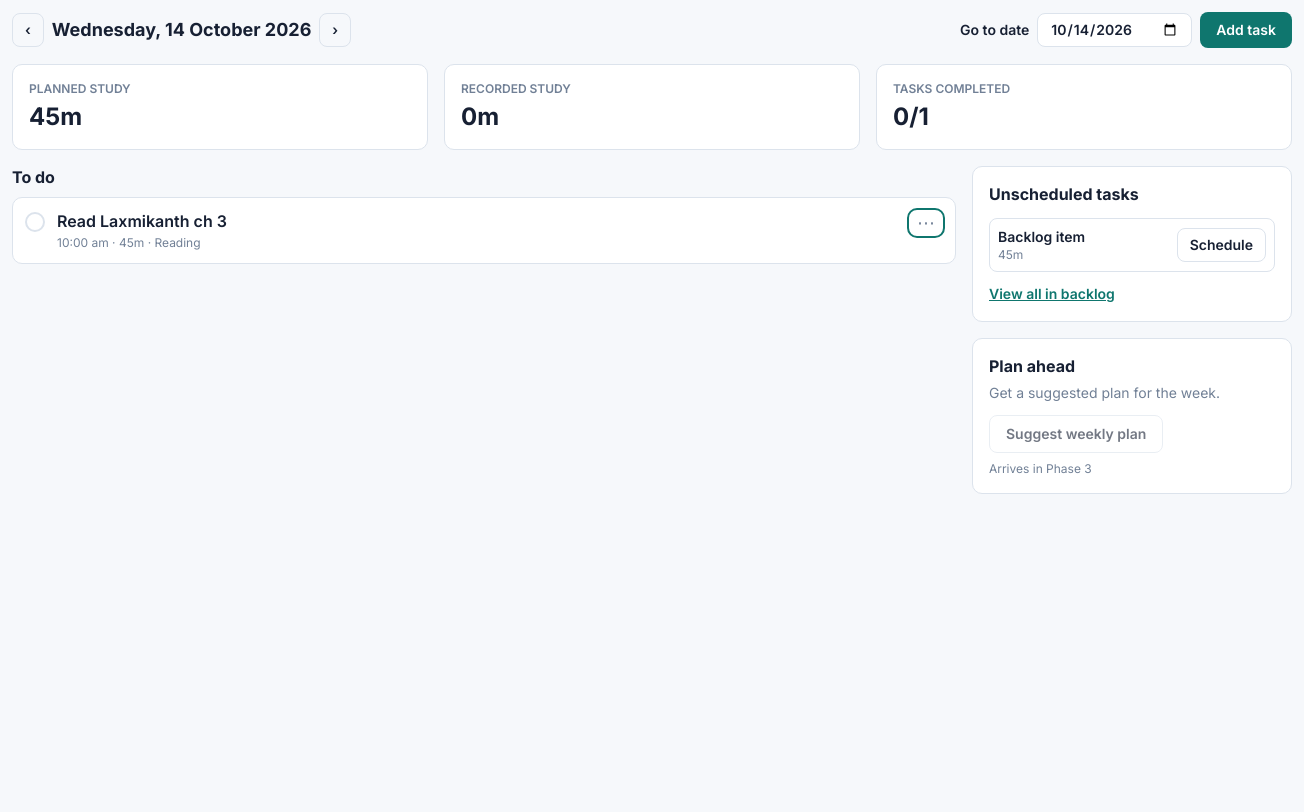
Test: TodayView › delete offers Undo that recreates via POST
Click the button named "Actions for Read": (926, 223) [909, 210, 943, 236]
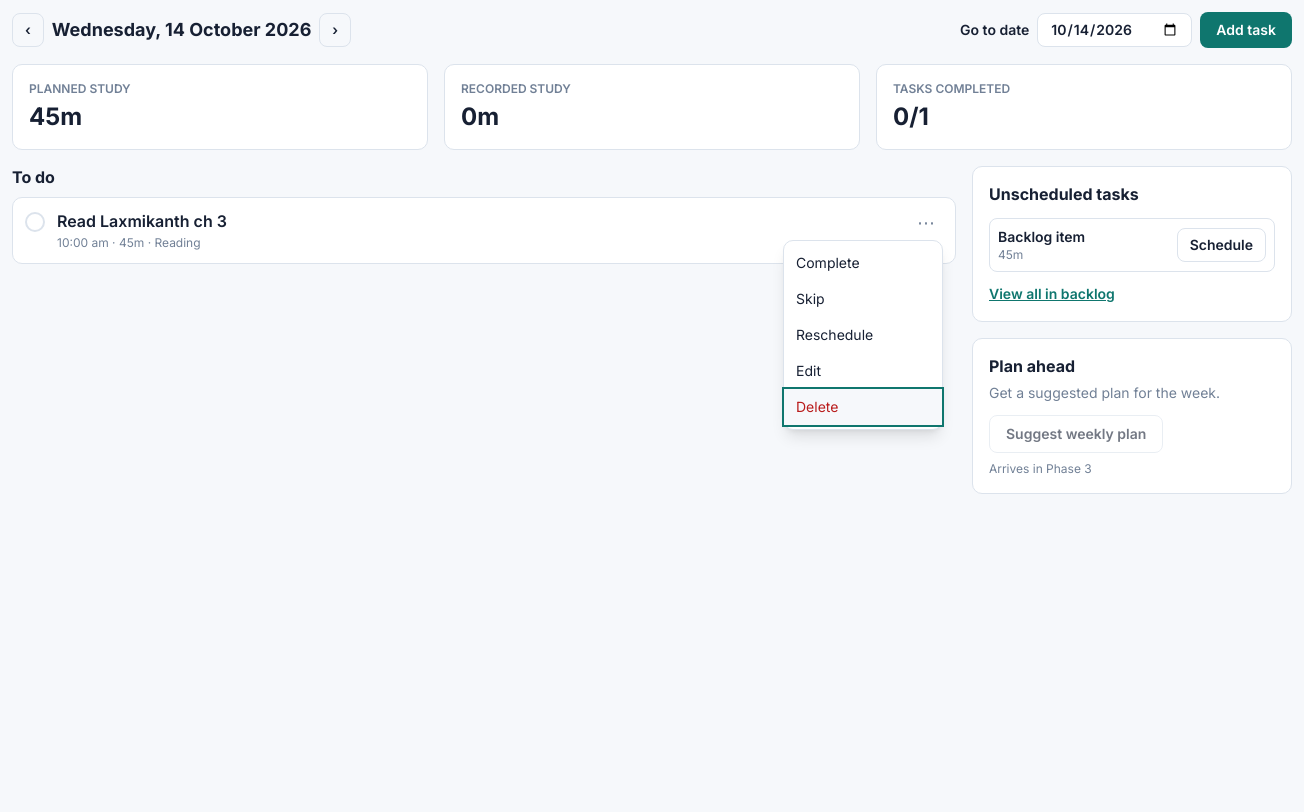
Click the menu item "Delete": (863, 407) [784, 389, 942, 425]
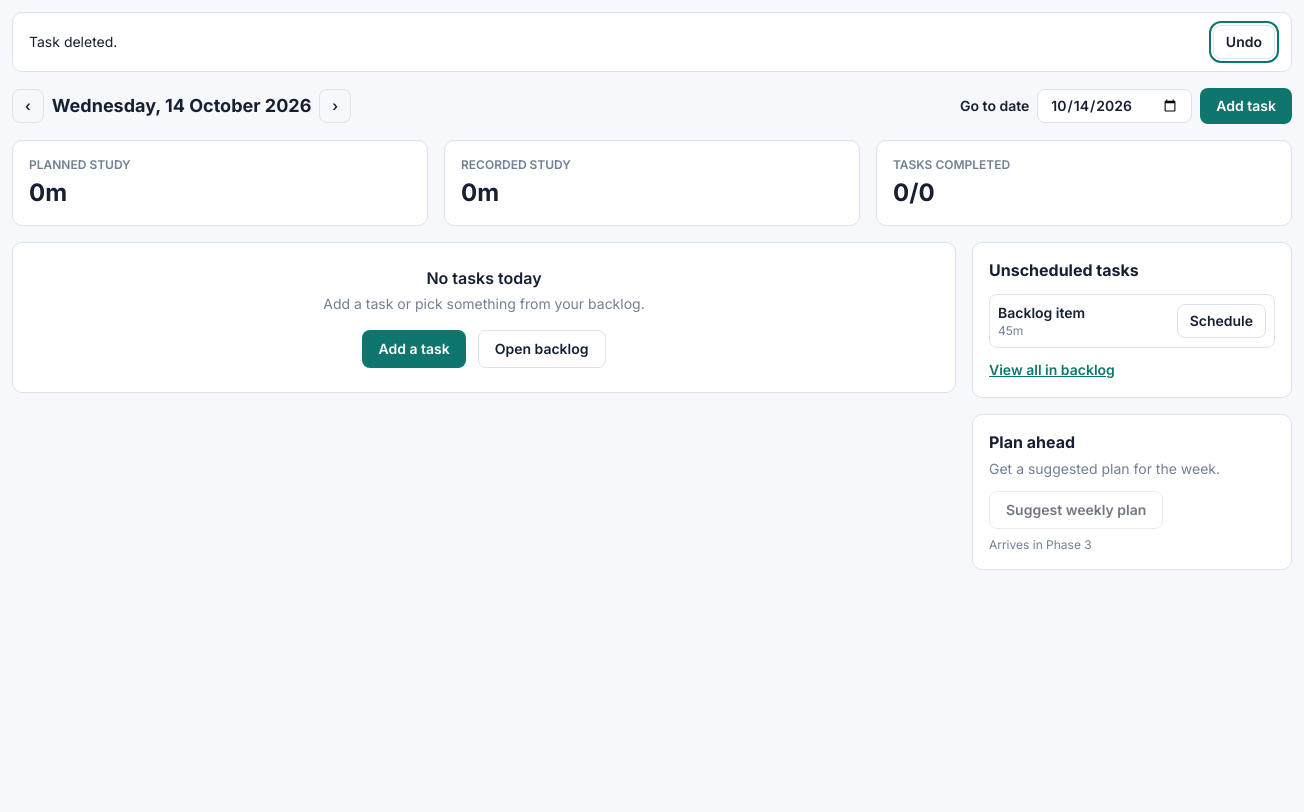
Result: the button "Undo" is shown
Click the button "Undo": (1244, 42) [1213, 25, 1275, 59]
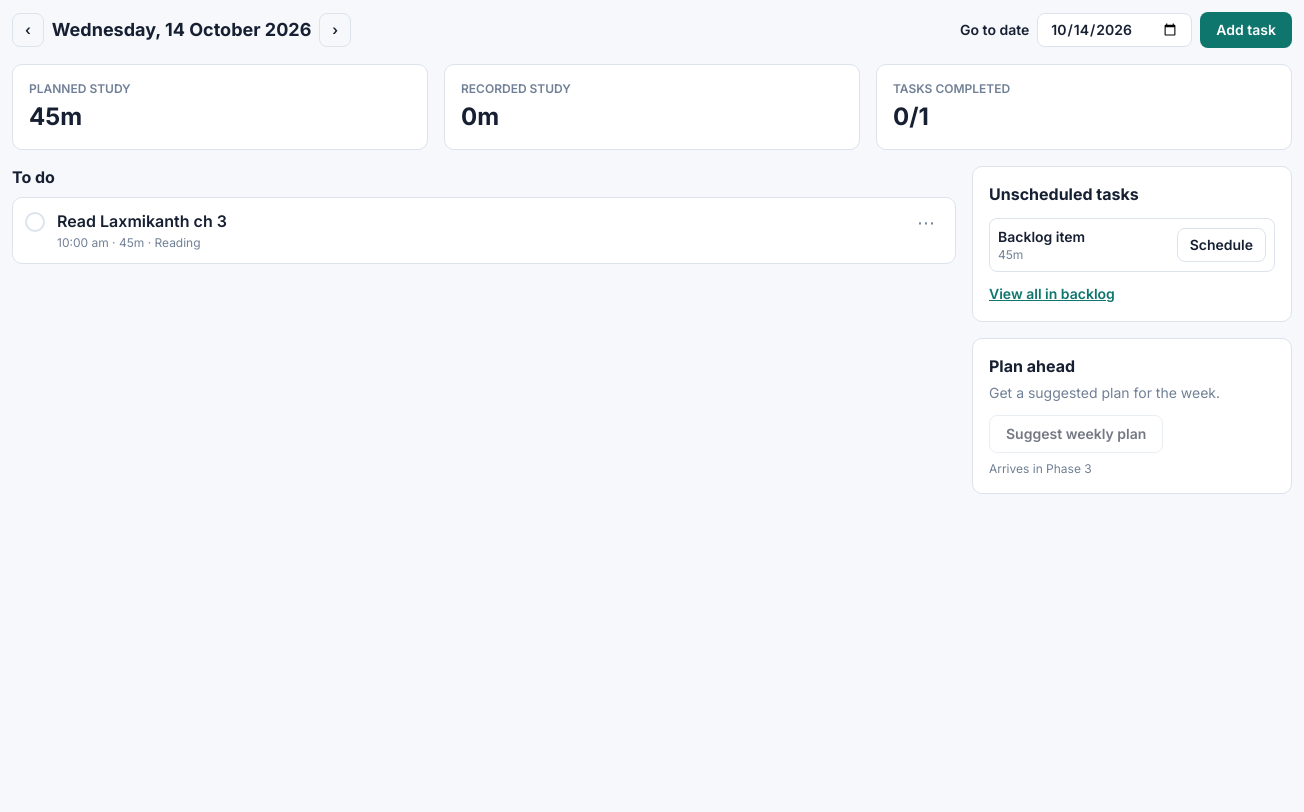
Result: the text "Read Laxmikanth ch 3" is shown at [57, 210, 227, 233]
